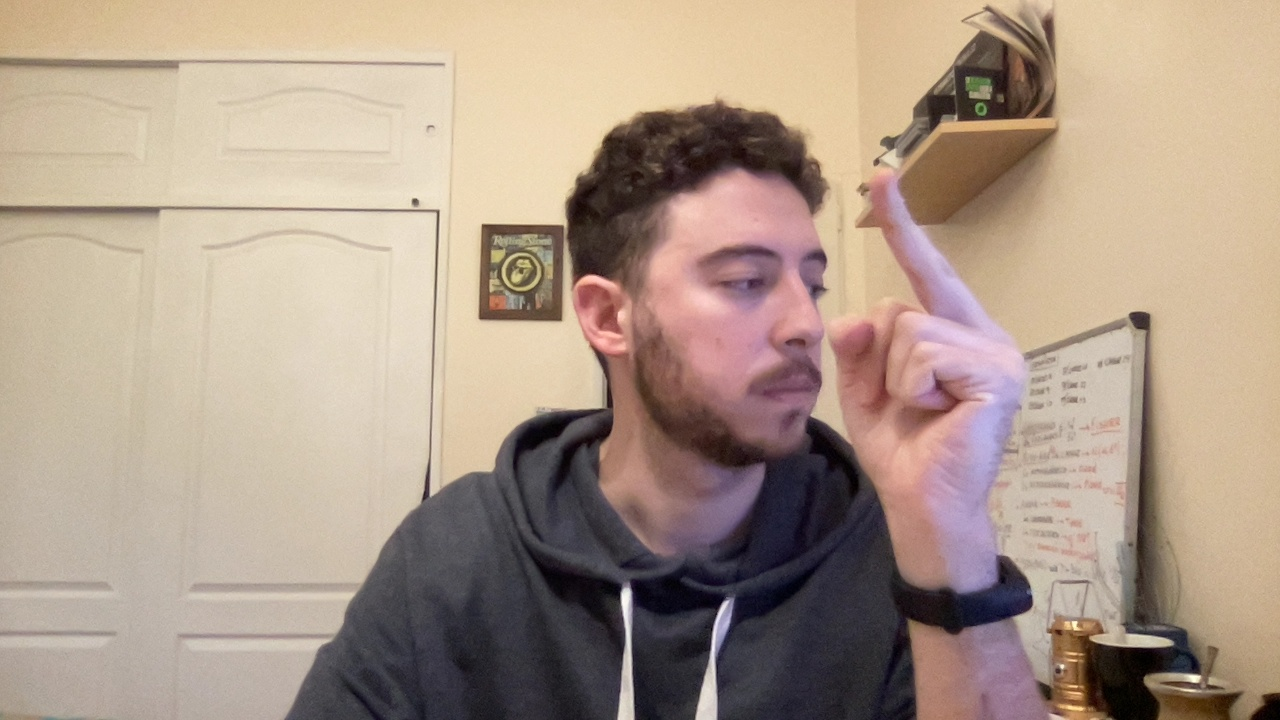mayor: (814, 157, 1046, 509)
